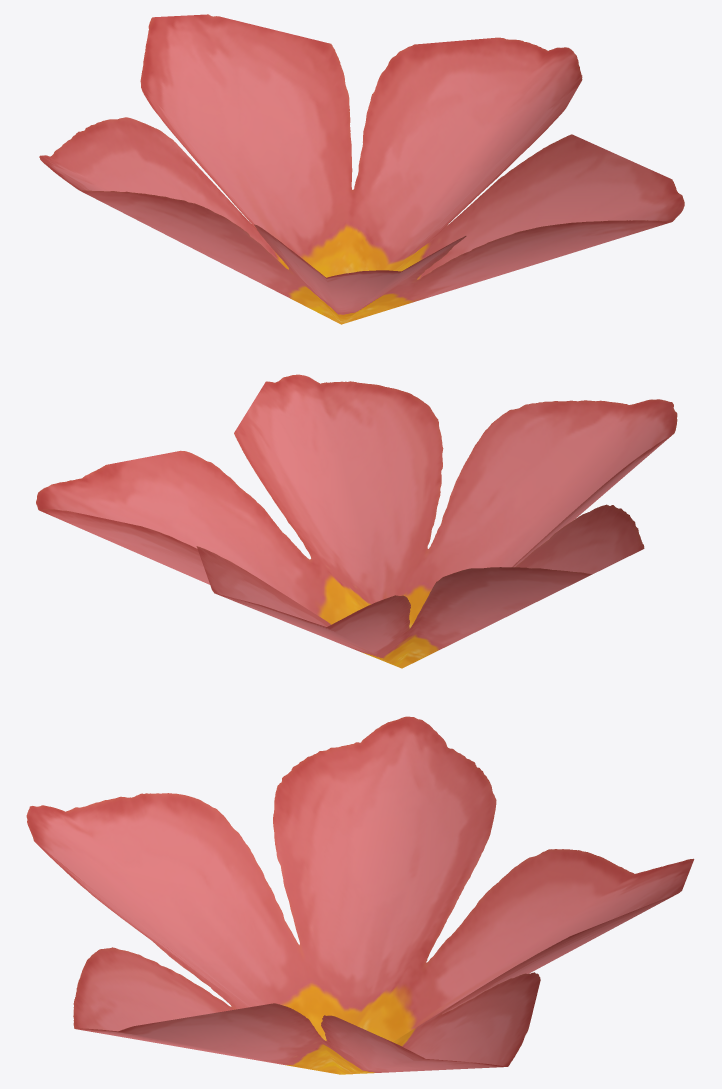
Rendered from Flower_Petal_5.gltf.
3 views of the same model, one above another, from view 1: azimuth 30°, elevation 25°; view 2: azimuth 150°, elevation 25°; view 3: azimuth 270°, elevation 25° (orthographic). The views are drawn at different scales.
Visible parts, largest first — view 1: Petal_5; view 2: Petal_5; view 3: Petal_5.
Boxes of the visible parts, box(x1,y1,x2,y2) form: Petal_5: box(39, 14, 684, 324); Petal_5: box(36, 374, 677, 668); Petal_5: box(26, 716, 694, 1074).
Bounding box in the file's own units: 0.834 × 0.2888 × 0.7952.
Materials: 1 (1 with a texture image).
